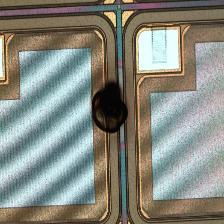PARTICLE: (84, 80, 140, 136)
